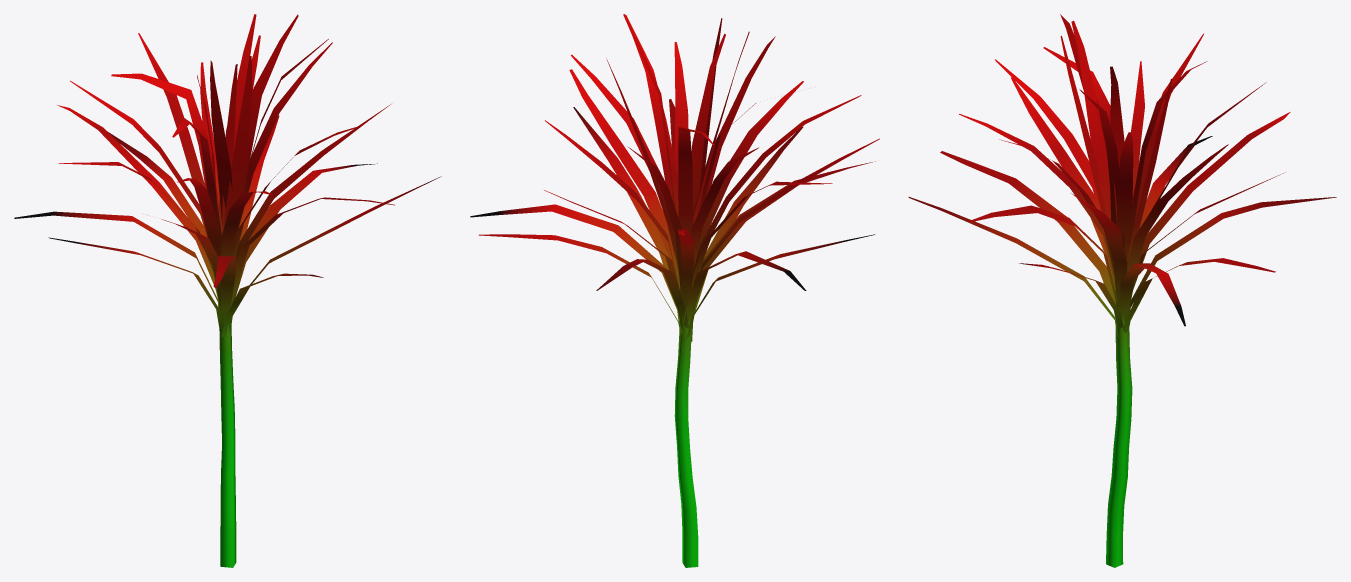
The model's file is SM_Dragon Tree_LOD4_Var8.fbx.
3 views of the same model, side by side, from view 1: azimuth 30°, elevation 25°; view 2: azimuth 150°, elevation 25°; view 3: azimuth 270°, elevation 25° (orthographic).
Visible parts, largest first — view 1: _f5oa_Var8_LOD4; view 2: _f5oa_Var8_LOD4; view 3: _f5oa_Var8_LOD4.
Boxes of the visible parts, x1=… form: _f5oa_Var8_LOD4: x1=14, y1=14, x2=441, y2=567; _f5oa_Var8_LOD4: x1=470, y1=14, x2=879, y2=567; _f5oa_Var8_LOD4: x1=908, y1=14, x2=1336, y2=567.
Bounding box in the file's own units: 31.75 × 44.08 × 32.22.
